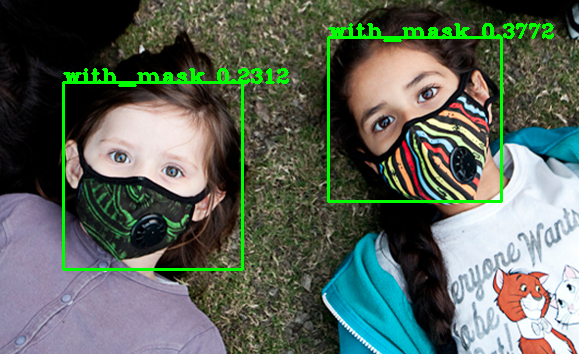with_mask: (63, 89, 230, 274), (341, 37, 507, 218)
